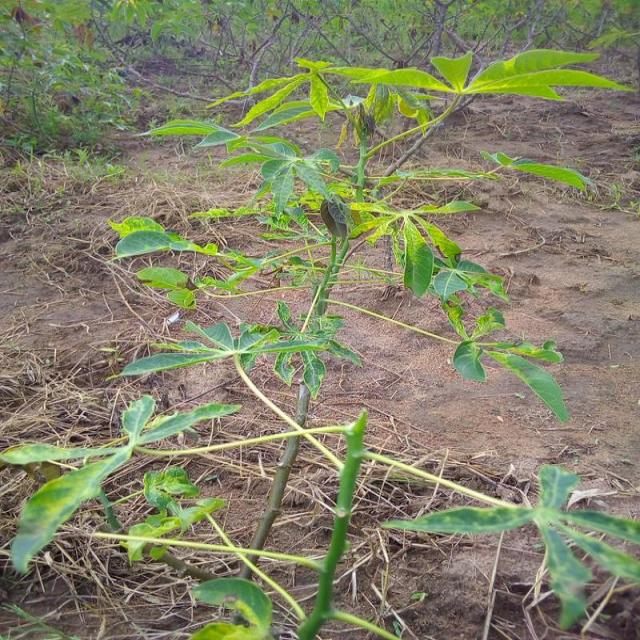Mosaico: (9, 420, 180, 517), (420, 295, 551, 393), (367, 189, 476, 281)
